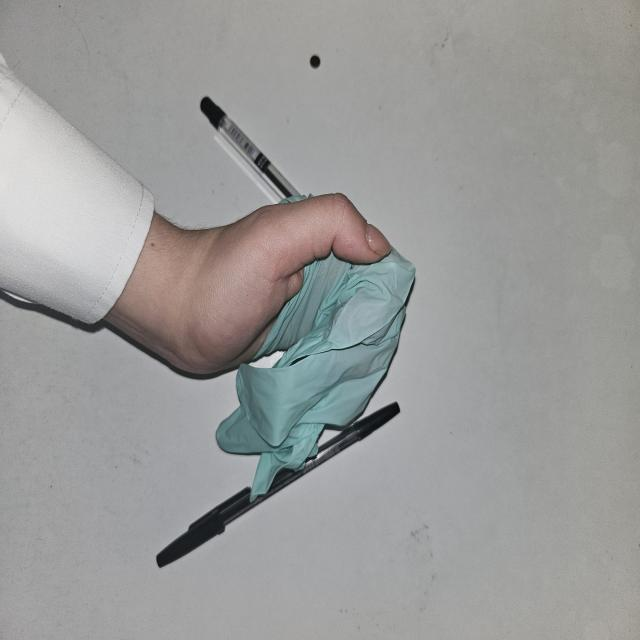glove_partial: (185, 191, 418, 503)
